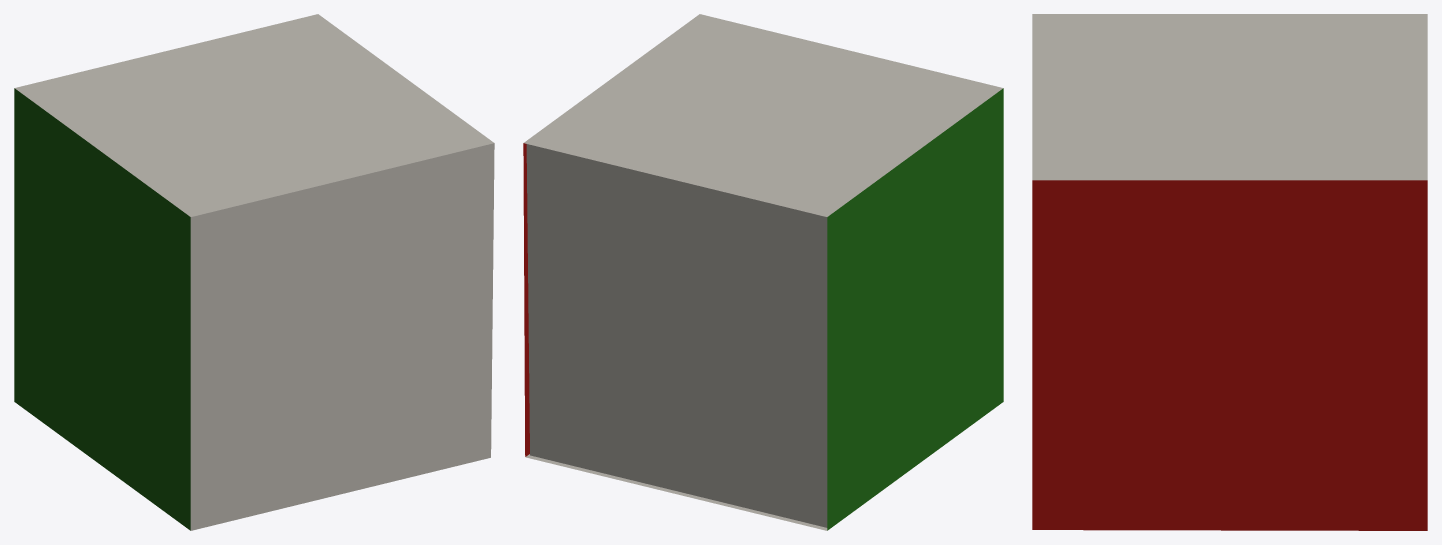
Rendered from CornellBox-Original.obj.
3 views of the same model, side by side, from view 1: azimuth 30°, elevation 25°; view 2: azimuth 150°, elevation 25°; view 3: azimuth 270°, elevation 25° (orthographic). The views are drawn at different scales.
Visible parts, largest first — view 1: backWall, rightWall, ceiling; view 2: frontwall, rightWall, ceiling, leftWall, floor; view 3: leftWall, ceiling.
Part boxes in pixels (x1,y1,x2,y2): backWall: (190,143,494,530); rightWall: (14,88,190,530); ceiling: (14,14,493,216); frontwall: (526,144,827,527); rightWall: (827,88,1003,530); ceiling: (524,14,1003,216); leftWall: (523,143,529,456); floor: (525,454,827,530); leftWall: (1032,180,1427,530); ceiling: (1032,14,1427,180).
Bounding box in the file's own units: 556 × 549 × 559.
